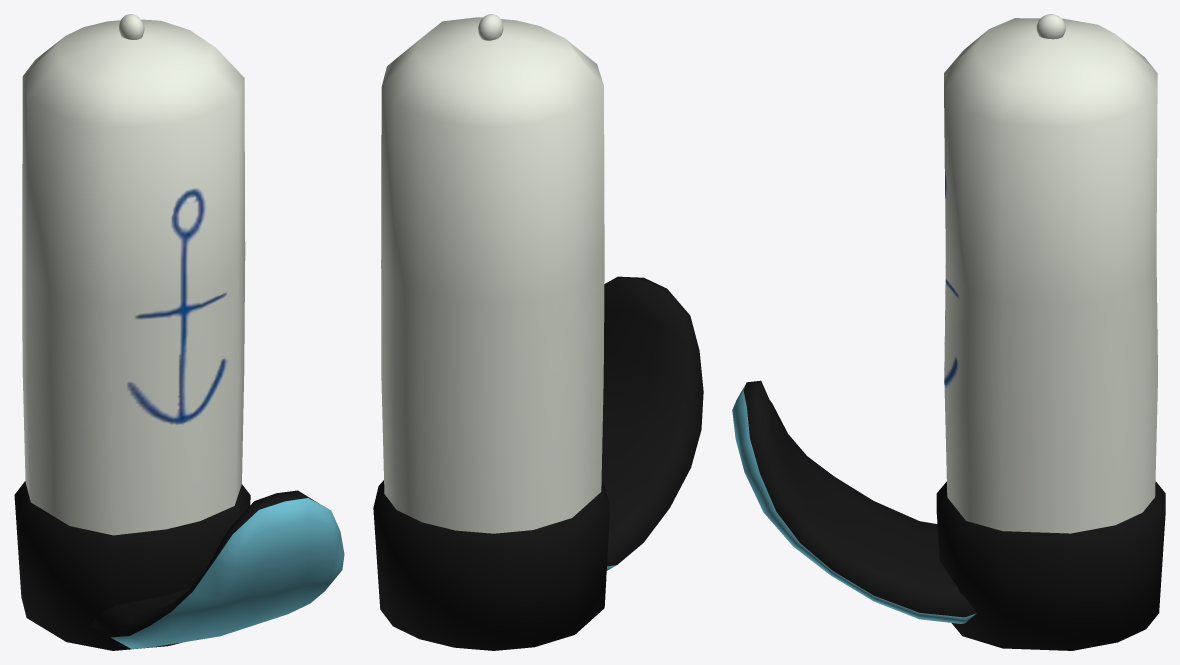
Rendered from krusty-krab-hat.gltf.
3 renders of one model, left to right at view 1: azimuth 30°, elevation 25°; view 2: azimuth 150°, elevation 25°; view 3: azimuth 270°, elevation 25°, orthographic.
Visible parts, largest first — view 1: Cylinder001; view 2: Cylinder001; view 3: Cylinder001.
Boxes of the visible parts, x1,y1,x2,y2 form: Cylinder001: (14, 14, 344, 650); Cylinder001: (373, 14, 703, 650); Cylinder001: (732, 14, 1165, 650).
Size of the model in its own units: 83.25 by 233 by 155.
3 materials, 3 textured.
